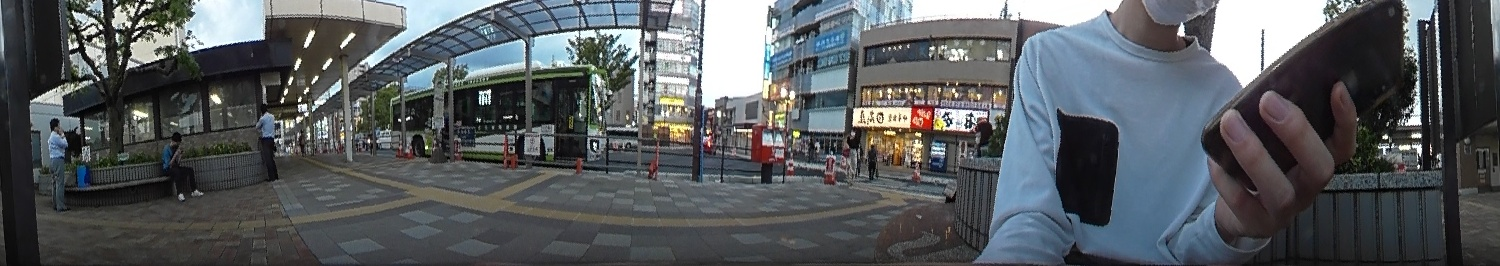difficult_person: (844, 125, 858, 175), (866, 141, 880, 180), (296, 126, 308, 156)
person: (159, 130, 204, 202), (44, 117, 73, 214), (251, 98, 280, 184)
